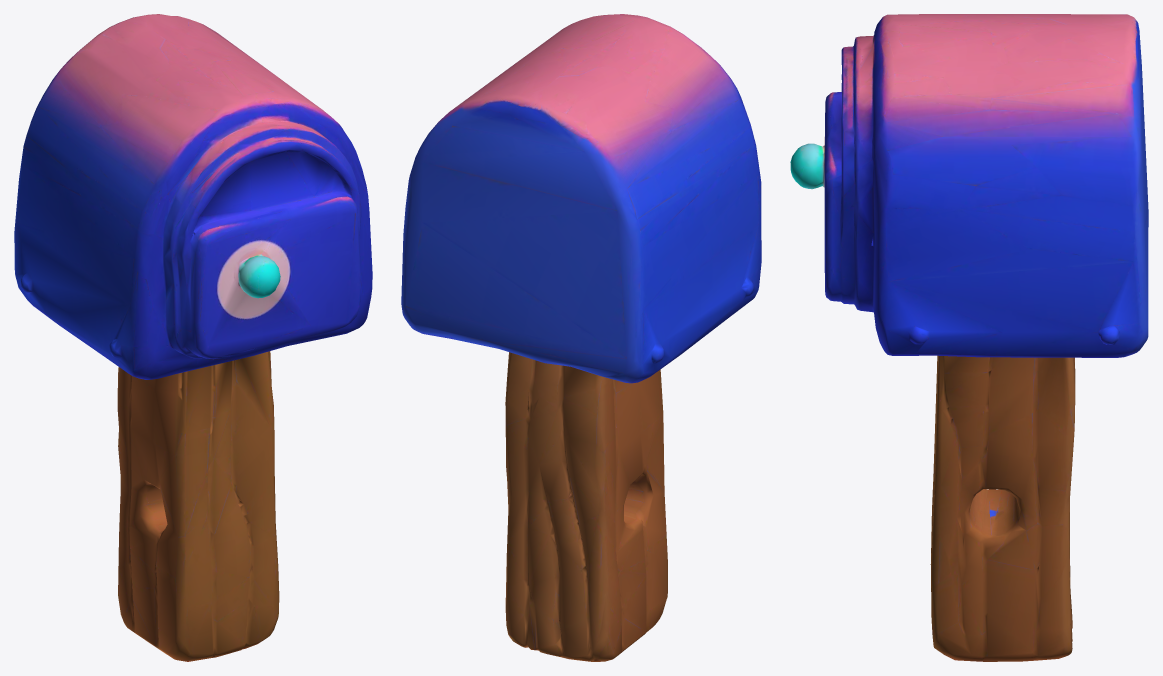
Rendered from clay-mailbox.glb.
3 renders of one model, left to right at view 1: azimuth 30°, elevation 25°; view 2: azimuth 150°, elevation 25°; view 3: azimuth 270°, elevation 25°, orthographic. The views are drawn at different scales.
Size of the model in its own units: 0.8785 by 1.91 by 1.01.
Materials: 1 (1 with a texture image).
